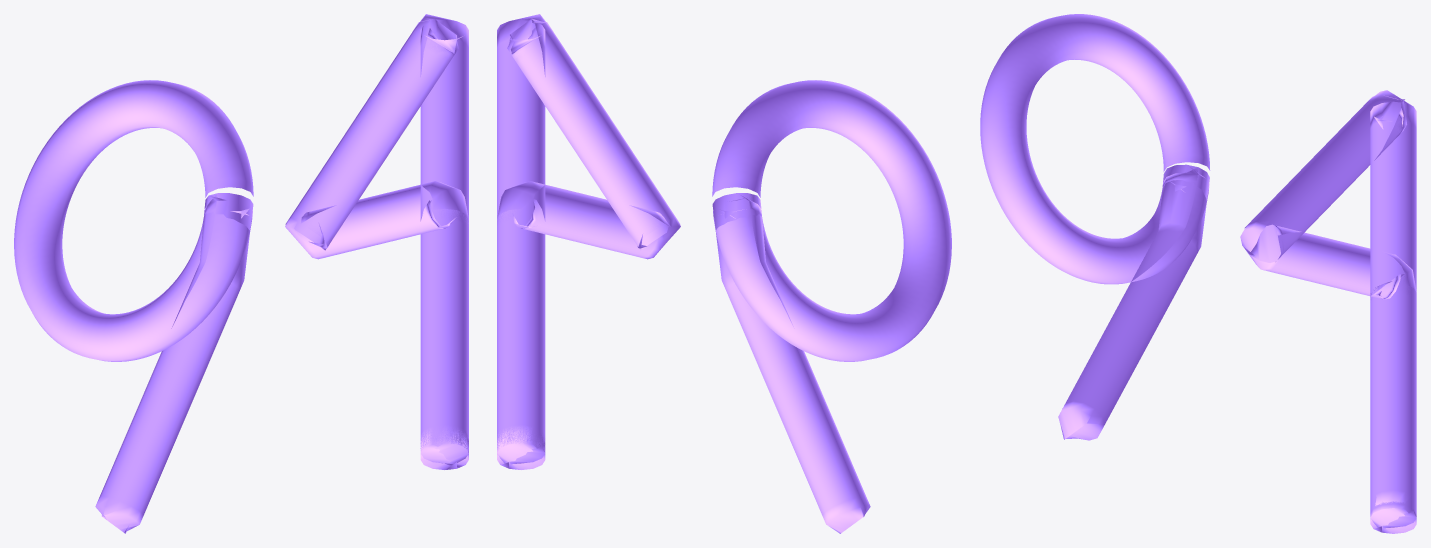
The picture shows the model from 3 angles, left to right: view 1: azimuth 30°, elevation 25°; view 2: azimuth 150°, elevation 25°; view 3: azimuth 330°, elevation 25°; orthographic projection. The views are drawn at different scales.
Parts seen in each view (by area): view 1: MorphMesh; view 2: MorphMesh; view 3: MorphMesh.
Boxes of the visible parts, box(x1,y1,x2,y2) form: MorphMesh: box(14, 14, 468, 533); MorphMesh: box(497, 14, 951, 533); MorphMesh: box(980, 14, 1416, 533).
Bounding box in the file's own units: 2.25 × 2.16 × 0.21.
